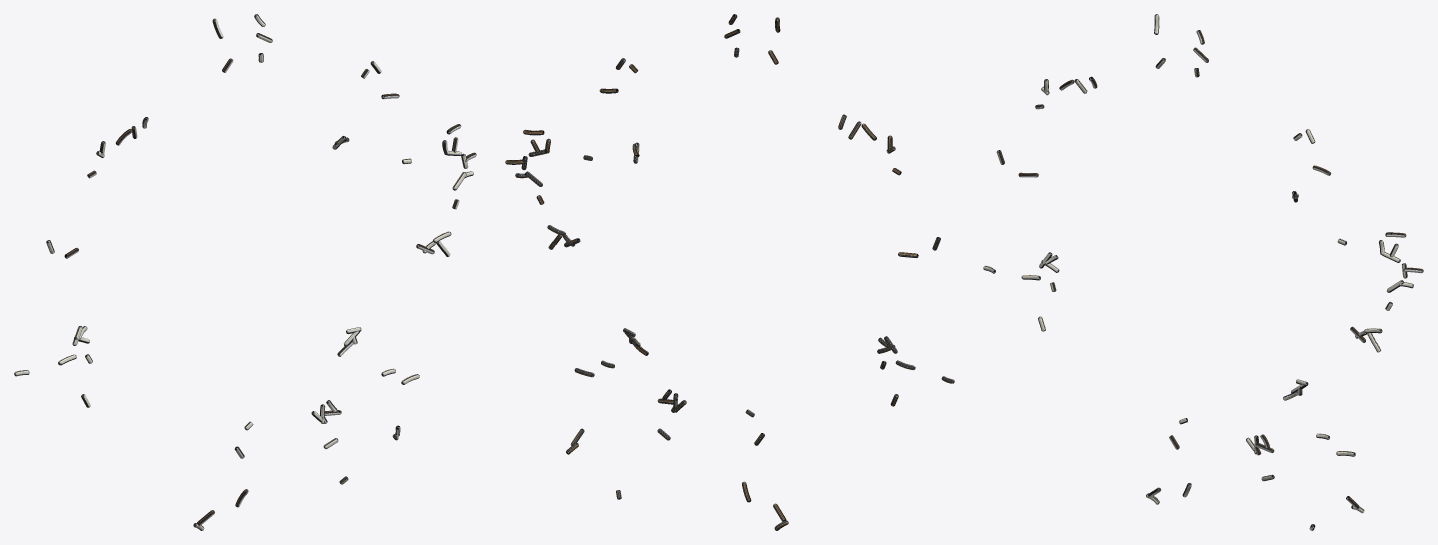
3 renders of one model, left to right at view 1: azimuth 30°, elevation 25°; view 2: azimuth 150°, elevation 25°; view 3: azimuth 330°, elevation 25°, orthographic. The views are drawn at different scales.
Size of the model in its own units: 0.7984 by 0.8566 by 0.0717.
